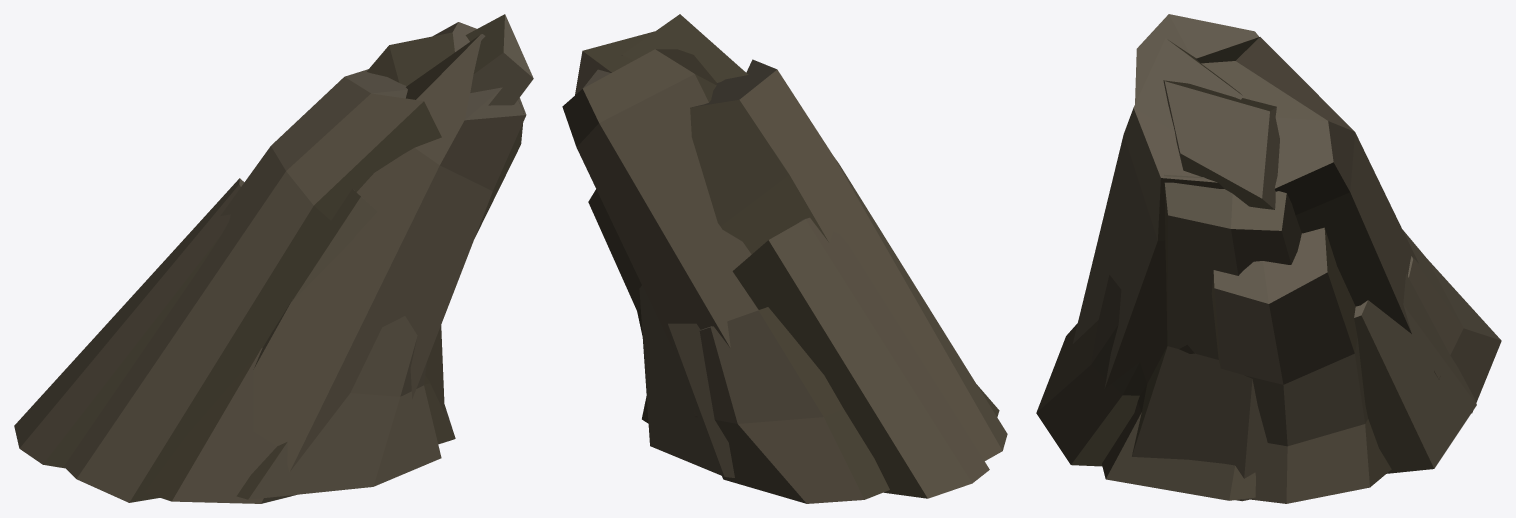
Rendered from caillou mechant1.fbx.
3 renders of one model, left to right at view 1: azimuth 30°, elevation 25°; view 2: azimuth 150°, elevation 25°; view 3: azimuth 270°, elevation 25°, orthographic. The views are drawn at different scales.
Visible parts, largest first — view 1: caillou_mechant_2; view 2: caillou_mechant_2; view 3: caillou_mechant_2.
Part boxes in pixels (left/top/right/bottom): caillou_mechant_2: left=14, top=14, right=533, bottom=503; caillou_mechant_2: left=562, top=14, right=1007, bottom=503; caillou_mechant_2: left=1036, top=14, right=1501, bottom=503.
Size of the model in its own units: 11.65 by 9.2 by 7.95.
